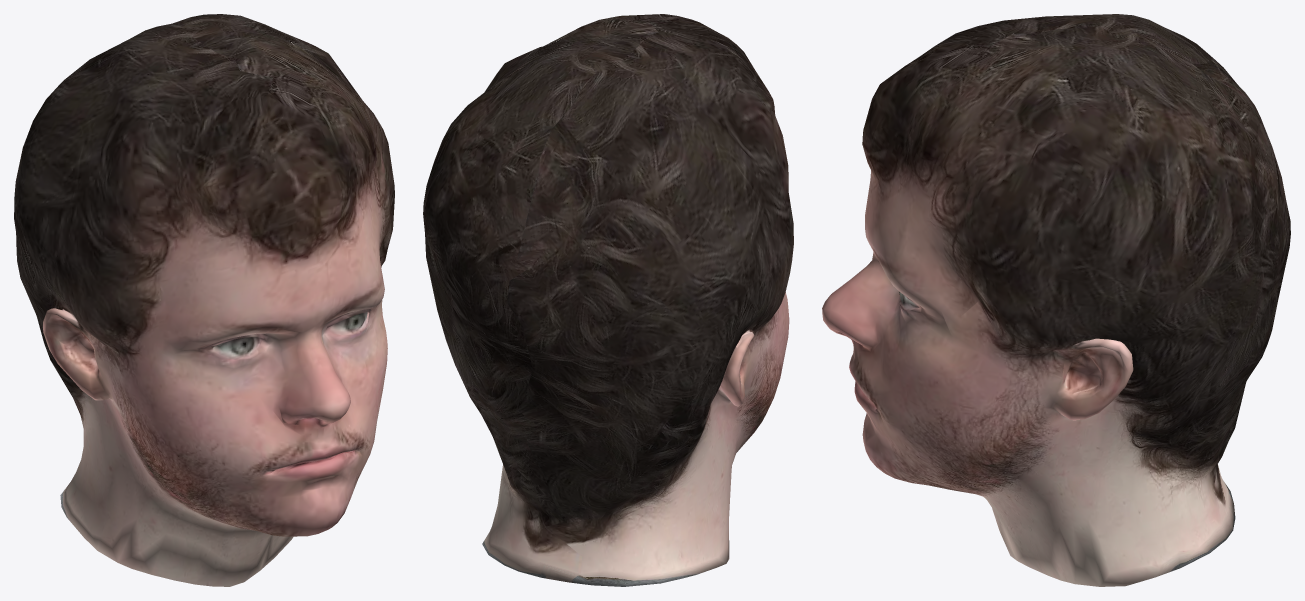
File: PatrickHead_smaller4.glb
3 views of the same model, side by side, from view 1: azimuth 30°, elevation 25°; view 2: azimuth 150°, elevation 25°; view 3: azimuth 270°, elevation 25° (orthographic). The views are drawn at different scales.
Parts seen in each view (by area): view 1: 2k head.001; view 2: 2k head.001; view 3: 2k head.001.
Boxes of the visible parts, bbox=[...] form: 2k head.001: bbox=[14, 14, 394, 586]; 2k head.001: bbox=[423, 14, 793, 586]; 2k head.001: bbox=[822, 14, 1290, 586].
Size of the model in its own units: 0.5903 by 0.9112 by 0.7333.
Materials: 1 (1 with a texture image).
